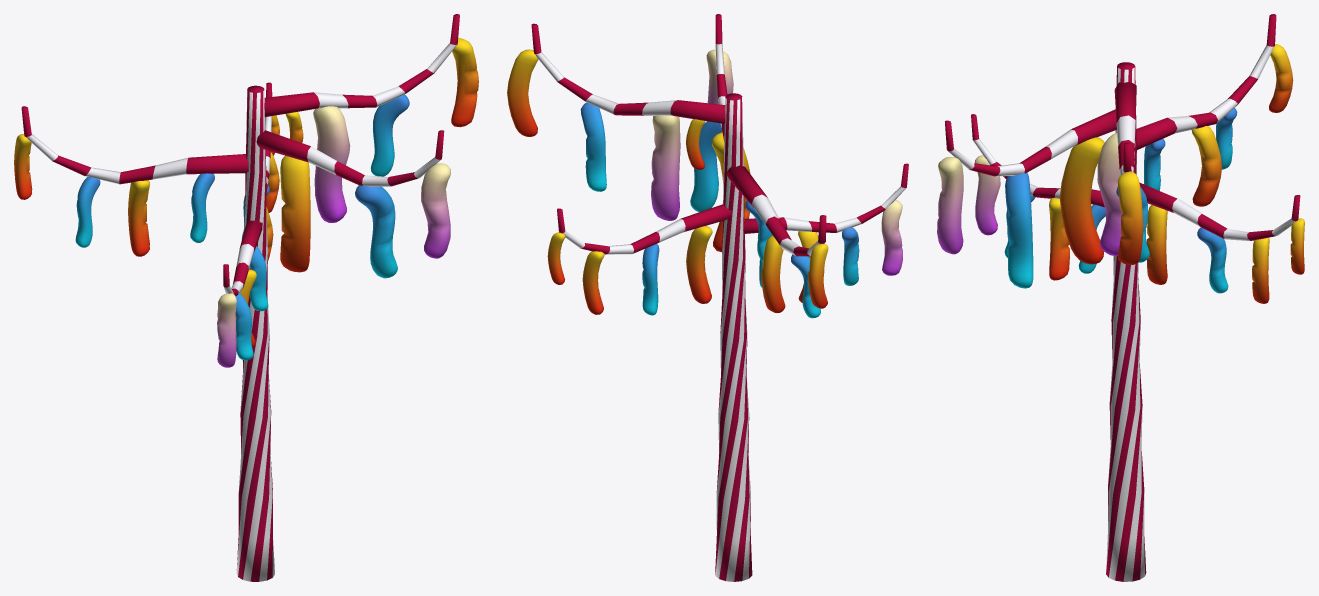
Rendered from cw_tree_21.fbx.
3 renders of one model, left to right at view 1: azimuth 30°, elevation 25°; view 2: azimuth 150°, elevation 25°; view 3: azimuth 270°, elevation 25°, orthographic. The views are drawn at different scales.
Visible parts, largest first — view 1: cw_t_21; view 2: cw_t_21; view 3: cw_t_21.
Part boxes in pixels (x1,y1,x2,y2): cw_t_21: [14, 14, 478, 581]; cw_t_21: [507, 14, 908, 581]; cw_t_21: [937, 14, 1304, 581].
Size of the model in its own units: 169 by 210 by 131.
